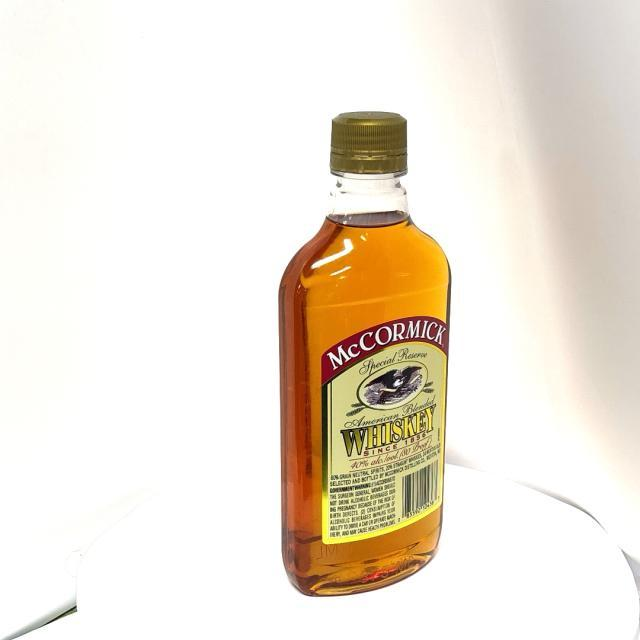MCCORMICKS BLEND 375ML: (276, 111, 452, 601)
